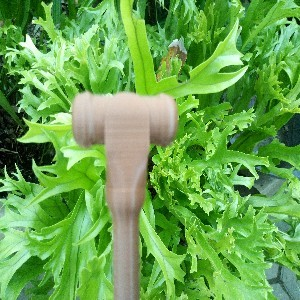palu: (70, 92, 177, 300)
